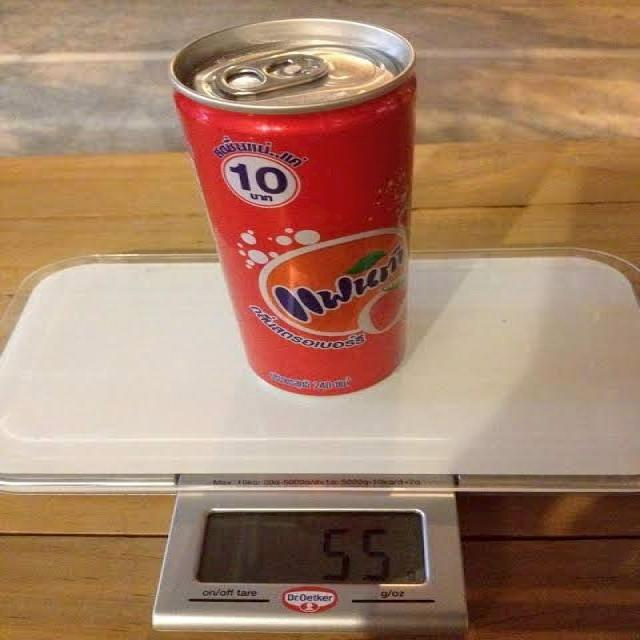can: (176, 23, 423, 396)
